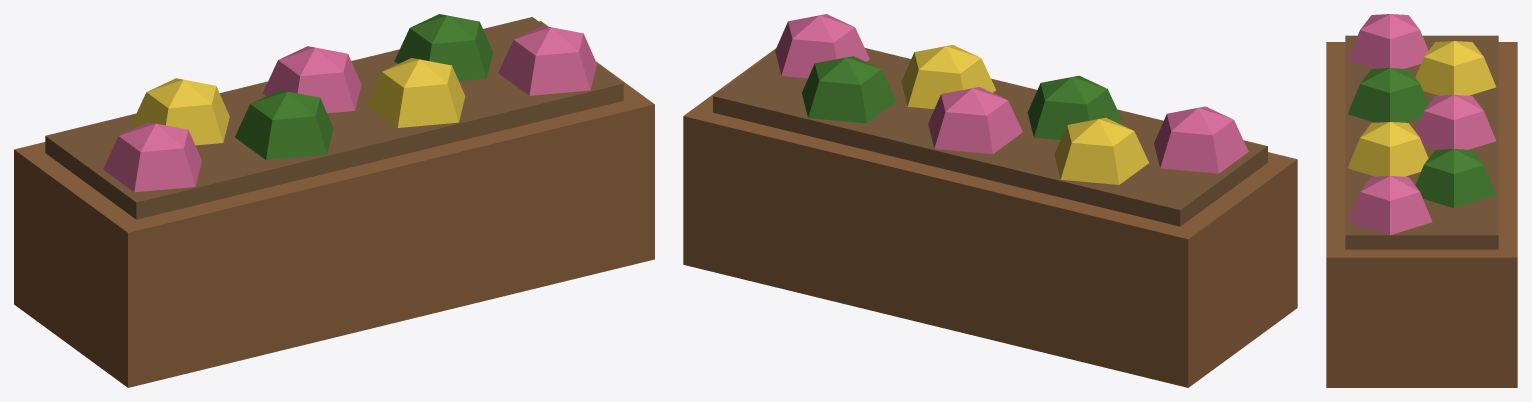
Rendered from Planter_Box.fbx.
3 renders of one model, left to right at view 1: azimuth 30°, elevation 25°; view 2: azimuth 150°, elevation 25°; view 3: azimuth 270°, elevation 25°, orthographic. The views are drawn at different scales.
Visible parts, largest first — view 1: Planter_Box; view 2: Planter_Box; view 3: Planter_Box.
Boxes of the visible parts, <box> form: Planter_Box: <box>14,14,654,387</box>; Planter_Box: <box>683,14,1297,387</box>; Planter_Box: <box>1326,14,1517,387</box>.
Size of the model in its own units: 1.6 by 0.64 by 0.6.
